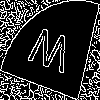W: (24, 24, 73, 84)
